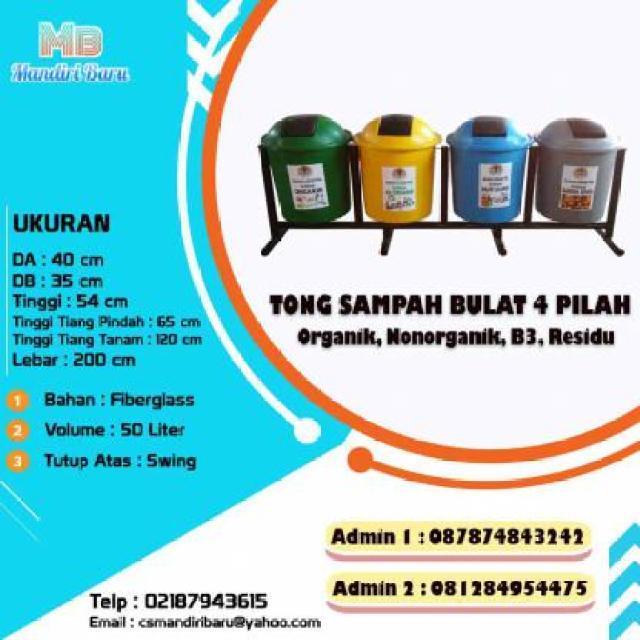garbage container: (352, 107, 446, 233), (445, 109, 538, 232), (532, 108, 625, 230), (259, 113, 356, 229)
